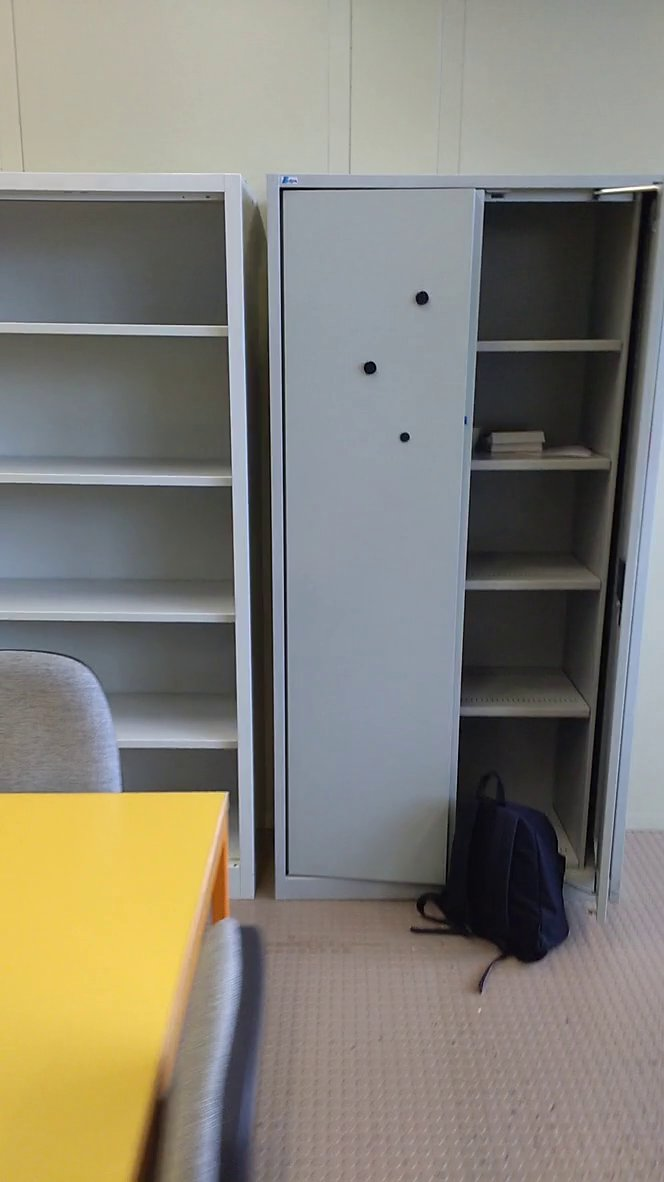bag: (409, 757, 582, 972)
chair: (125, 898, 289, 1182)
